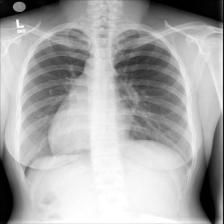normal: (14, 25, 196, 186)
